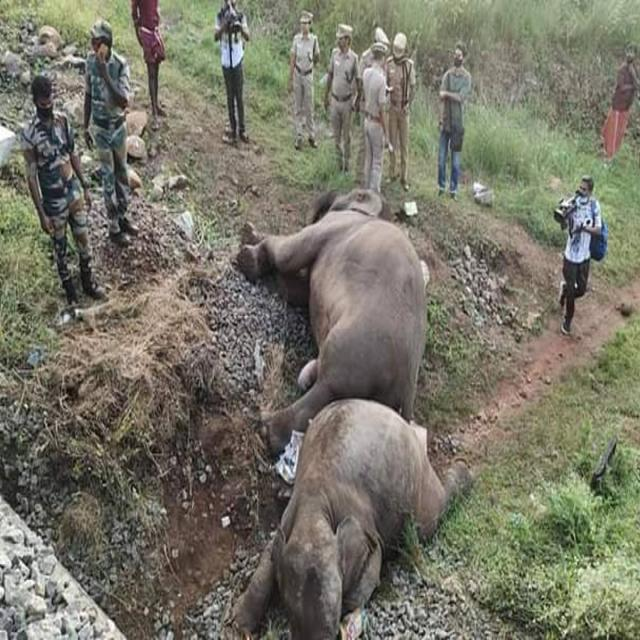Elephant: (260, 402, 462, 626), (232, 171, 426, 401)
